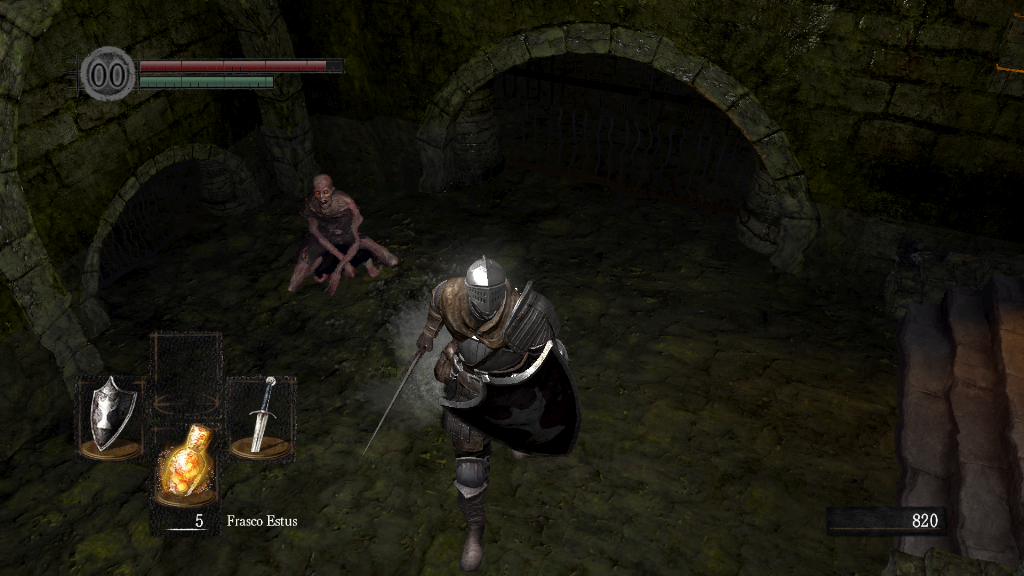health: (138, 58, 343, 71)
hollow: (288, 173, 399, 297)
humanity: (80, 45, 136, 102)
player: (363, 256, 585, 572)
souls: (825, 506, 945, 536)
stamina: (138, 74, 274, 88)
